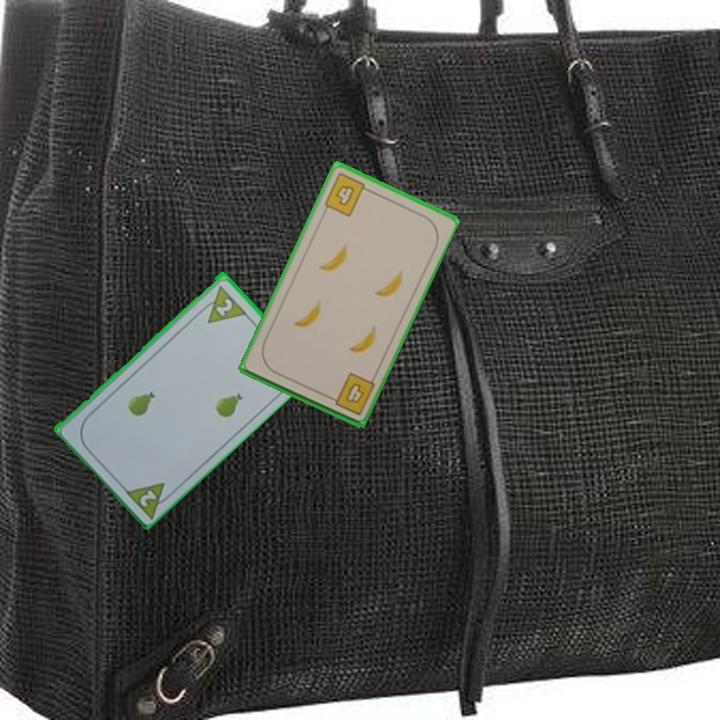2p: (120, 478, 177, 521), (212, 294, 236, 319)
4b: (320, 169, 374, 219), (324, 369, 378, 418)
